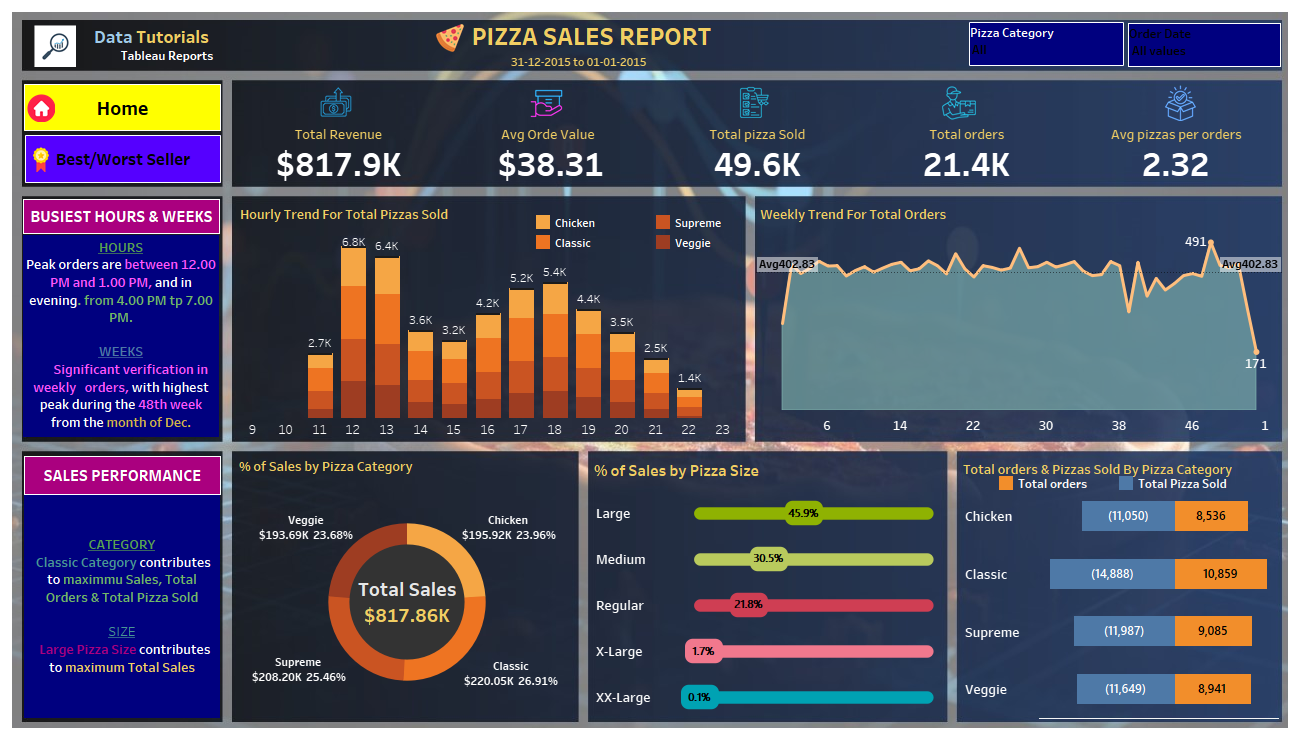

The page's visual inventory and layout, read from the dashboard file:
{"tool":"tableau","page":{"name":"Home","canvas":[1300,740],"ordinal":1},"visuals":[{"type":"image","param":"Image/Pizza Tableau 1.jpg","box":[8,8,1284,724]},{"type":"text","box":[469,20,245,31]},{"type":"filter","title":"Hourly Trend For Total Pizzas Sold","param":"[federated.13sva8y1rb70dj1fjozl4091sc1z].[none:pizza_category:nk]","box":[969,22,155,44]},{"type":"image","param":"Image/pizza-slice.png","box":[428,23,44,29]},{"type":"filter","title":"Hourly Trend For Total Pizzas Sold","param":"[federated.13sva8y1rb70dj1fjozl4091sc1z].[none:order_date:qk]","box":[1128,23,153,44]},{"type":"text","box":[81,24,141,41]},{"type":"image","param":"Image/WhatsApp Image 2025-07-14 at 6.10.40 PM (1).jpeg","box":[26,25,58,42]},{"type":"worksheet","title":"Date Range","mark":"Automatic","box":[473,55,212,14]},{"type":"dashboard-object","box":[24,84,197,47]},{"type":"image","param":"Image/profit-growth.png","box":[314,84,44,35]},{"type":"image","param":"Image/shipping-box.png","box":[514,85,65,36]},{"type":"image","param":"Image/delivery-man.png","box":[932,85,53,35]},{"type":"image","param":"Image/order (1).png","box":[1145,85,70,36]},{"type":"image","param":"Image/order-delivery (1).png","box":[736,86,37,32]},{"type":"image","param":"Image/home (1).png","box":[27,93,28,31]},{"type":"worksheet","title":"KPI Banner","mark":"Automatic","box":[234,124,1047,60]},{"type":"dashboard-object","box":[25,135,196,48]},{"type":"image","param":"Image/choice.png","box":[28,143,25,34]},{"type":"text","box":[23,199,197,35]},{"type":"worksheet","title":"Hourly Trend For Total Pizzas Sold","mark":"Bar","rows":["Calculation_677791773466419203","Calculation_677791773466419203"],"cols":["order_time"],"box":[236,199,505,240]},{"type":"worksheet","title":"Weekly Trend For Total Orders","mark":"Automatic","rows":["Calculation_677791773465526273","Calculation_677791773465526273"],"cols":["order_date"],"box":[756,199,526,241]},{"type":"legend","title":"Hourly Trend For Total Pizzas Sold","param":"[federated.13sva8y1rb70dj1fjozl4091sc1z].[none:pizza_category:nk]","box":[533,212.5,245,46.5]},{"type":"text","box":[23,235,196,202]},{"type":"worksheet","title":"% of Sales by Pizza Category","mark":"Pie","rows":["Calculation_955889050588540930","Calculation_955889050588540930"],"box":[235,451,344,269]},{"type":"worksheet","title":"% of Sales by Pizza Size","mark":"Line","rows":["pizza_size"],"box":[590,454,355,266]},{"type":"worksheet","title":"Total orders & Pizzas Sold By Pizza Category","mark":"Automatic","rows":["pizza_category"],"box":[959,454,319,264]},{"type":"text","box":[24,456,197,39]},{"type":"legend","title":"Total orders & Pizzas Sold By Pizza Category","param":"[federated.13sva8y1rb70dj1fjozl4091sc1z].[:Measure Names]","box":[996,473,245,21]},{"type":"text","box":[24,495,196,223]}]}

Visuals, with their boxes in screenshot pixels (x1, y1, x2, y2), scaled from the page's 1300x740 canvas onto the 1300x740 screenshot:
image: box=[8, 8, 1292, 732]
text: box=[469, 20, 714, 51]
"Hourly Trend For Total Pizzas Sold" filter: box=[969, 22, 1124, 66]
image: box=[428, 23, 472, 52]
"Hourly Trend For Total Pizzas Sold" filter: box=[1128, 23, 1281, 67]
text: box=[81, 24, 222, 65]
image: box=[26, 25, 84, 67]
"Date Range" worksheet: box=[473, 55, 685, 69]
dashboard-object: box=[24, 84, 221, 131]
image: box=[314, 84, 358, 119]
image: box=[514, 85, 579, 121]
image: box=[932, 85, 985, 120]
image: box=[1145, 85, 1215, 121]
image: box=[736, 86, 773, 118]
image: box=[27, 93, 55, 124]
"KPI Banner" worksheet: box=[234, 124, 1281, 184]
dashboard-object: box=[25, 135, 221, 183]
image: box=[28, 143, 53, 177]
text: box=[23, 199, 220, 234]
"Hourly Trend For Total Pizzas Sold" worksheet (Bar marks): box=[236, 199, 741, 439]
"Weekly Trend For Total Orders" worksheet: box=[756, 199, 1282, 440]
"Hourly Trend For Total Pizzas Sold" legend: box=[533, 212, 778, 259]
text: box=[23, 235, 219, 437]
"% of Sales by Pizza Category" worksheet (Pie marks): box=[235, 451, 579, 720]
"% of Sales by Pizza Size" worksheet (Line marks): box=[590, 454, 945, 720]
"Total orders & Pizzas Sold By Pizza Category" worksheet: box=[959, 454, 1278, 718]
text: box=[24, 456, 221, 495]
"Total orders & Pizzas Sold By Pizza Category" legend: box=[996, 473, 1241, 494]
text: box=[24, 495, 220, 718]
